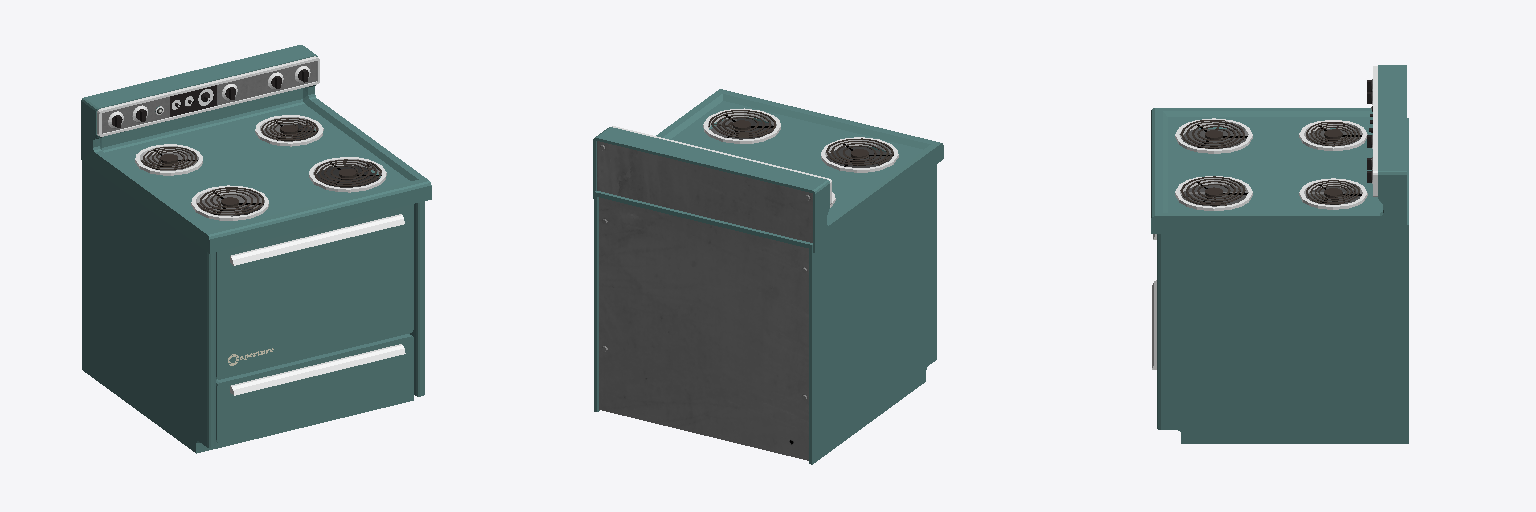
The picture shows the model from 3 angles: view 1: azimuth 30°, elevation 25°; view 2: azimuth 150°, elevation 25°; view 3: azimuth 270°, elevation 25°; orthographic projection.
Visible parts, largest first — view 1: oven_cube_mesh_oven_gun_cube_0; view 2: oven_cube_mesh_oven_gun_cube_0; view 3: oven_cube_mesh_oven_gun_cube_0.
Boxes of the visible parts, box(x1,y1,x2,y2) form: oven_cube_mesh_oven_gun_cube_0: box(81, 45, 431, 453); oven_cube_mesh_oven_gun_cube_0: box(593, 89, 943, 464); oven_cube_mesh_oven_gun_cube_0: box(1151, 65, 1408, 443).
Bounding box in the file's own units: 4583 × 5458 × 4615.
5 materials, 5 textured.